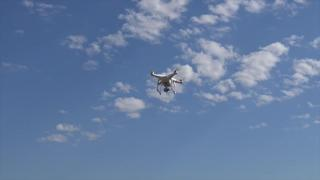UAV: (151, 70, 184, 96)
